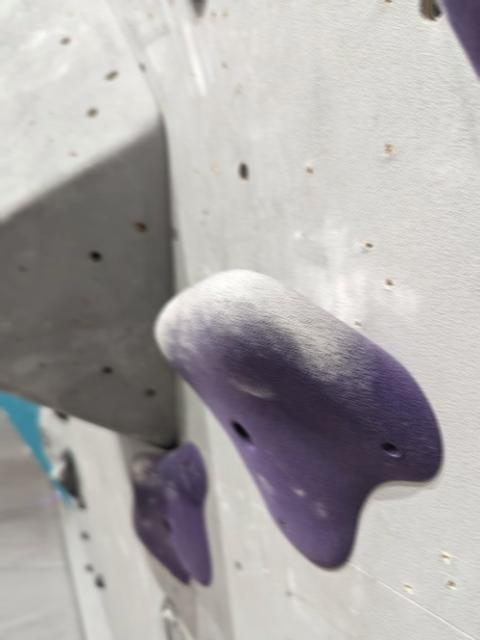jug: (154, 270, 442, 569)
